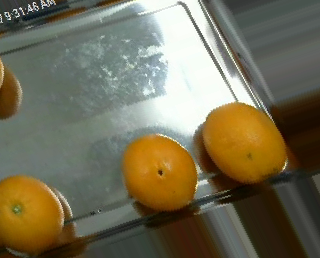Orange: (202, 101, 288, 183), (121, 134, 199, 211), (2, 173, 65, 252)
